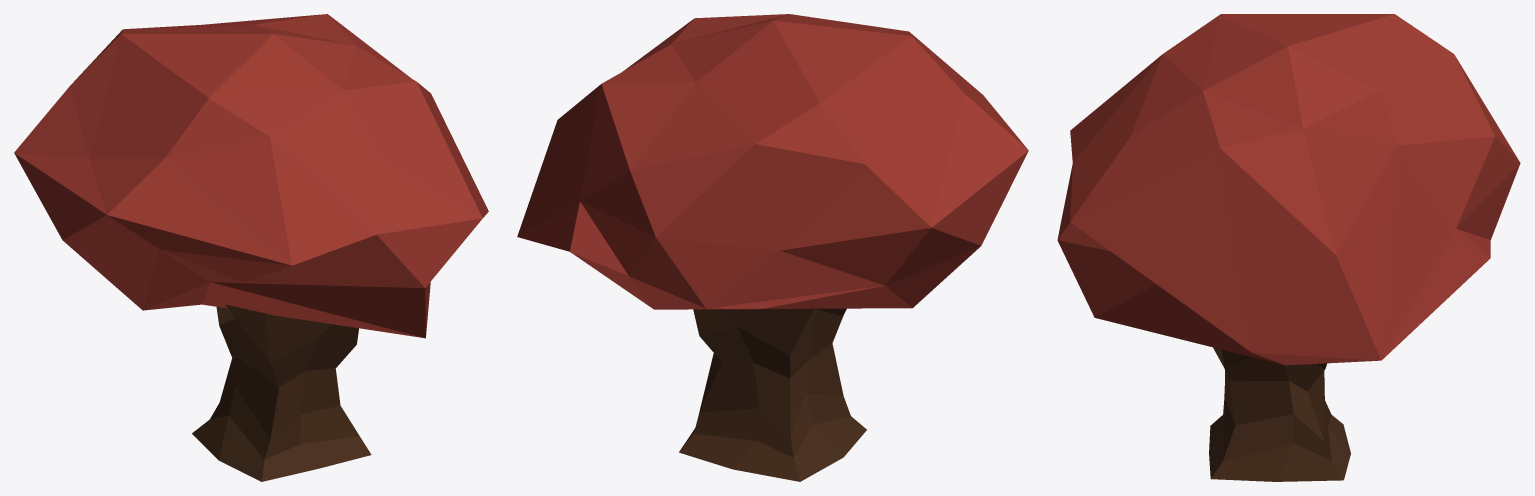
File: Tree_30_Red.fbx
3 views of the same model, side by side, from view 1: azimuth 30°, elevation 25°; view 2: azimuth 150°, elevation 25°; view 3: azimuth 270°, elevation 25° (orthographic). The views are drawn at different scales.
Visible parts, largest first — view 1: Tree_30_Red_Part_1, Tree_30_Red_Part_2; view 2: Tree_30_Red_Part_1, Tree_30_Red_Part_2; view 3: Tree_30_Red_Part_1, Tree_30_Red_Part_2.
Boxes of the visible parts, box(x1,y1,x2,y2) form: Tree_30_Red_Part_1: box(14, 14, 488, 338); Tree_30_Red_Part_2: box(192, 304, 371, 481); Tree_30_Red_Part_1: box(517, 14, 1028, 309); Tree_30_Red_Part_2: box(679, 308, 866, 481); Tree_30_Red_Part_1: box(1057, 14, 1520, 365); Tree_30_Red_Part_2: box(1209, 347, 1350, 481).
Bounding box in the file's own units: 912 × 881 × 915.
